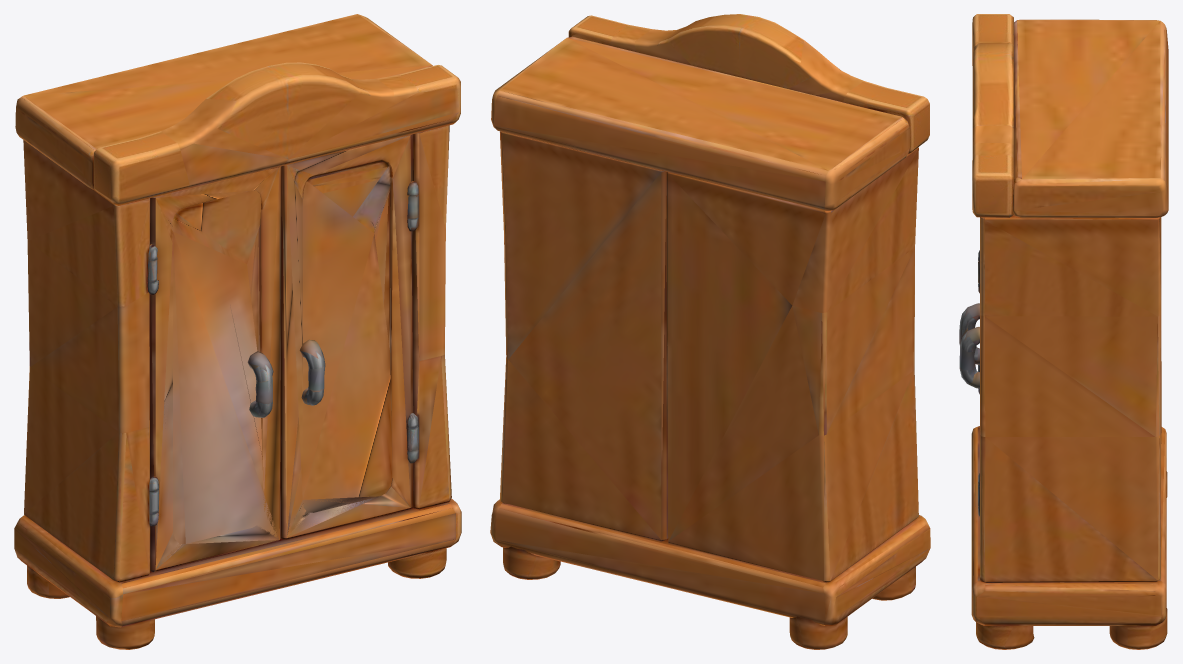
The model's file is item-wardrobe.glb.
3 views of the same model, side by side, from view 1: azimuth 30°, elevation 25°; view 2: azimuth 150°, elevation 25°; view 3: azimuth 270°, elevation 25° (orthographic). The views are drawn at different scales.
Size of the model in its own units: 0.6538 by 0.9521 by 0.3501.
Materials: 1 (1 with a texture image).
